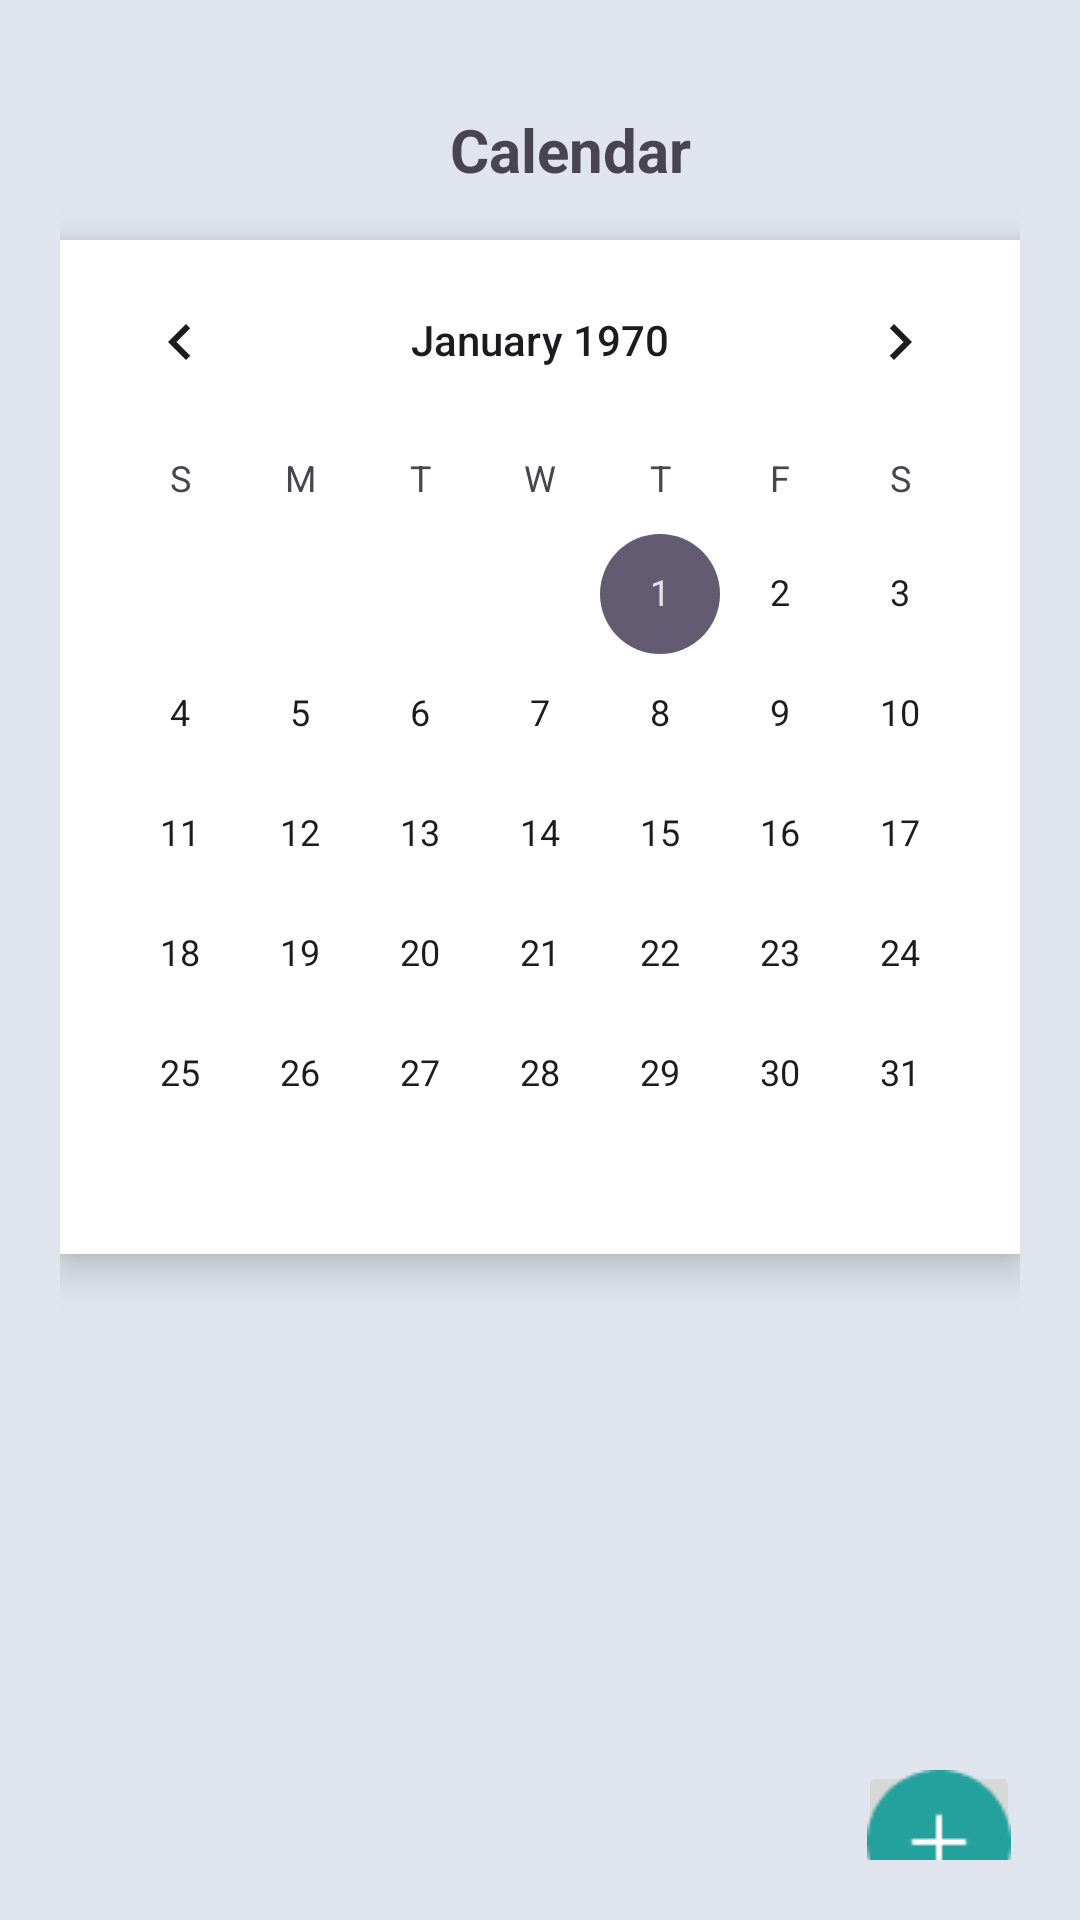

Named icons in this screenshot (1080px x 1920px) and their bounding boxes, (x1, y1, x2, y2):
add: (867, 1770, 1011, 1860)
